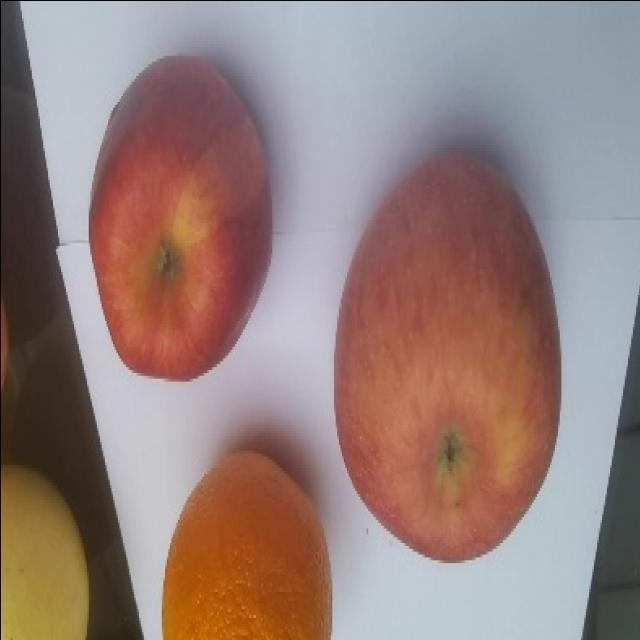Apple: (329, 151, 564, 565), (86, 51, 278, 383)
Orange: (159, 440, 338, 640)
